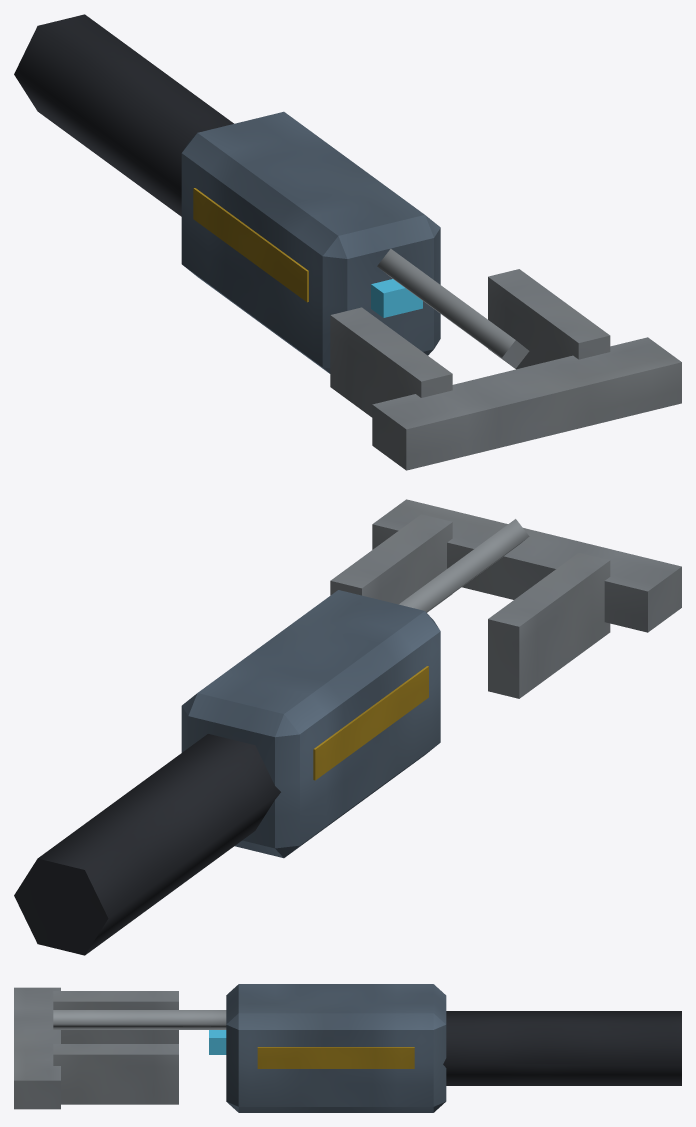
The picture shows the model from 3 angles, top to bottom: view 1: azimuth 30°, elevation 25°; view 2: azimuth 150°, elevation 25°; view 3: azimuth 270°, elevation 25°; orthographic projection. The views are drawn at different scales.
Parts seen in each view (by area): view 1: dweller_tool_multitool; view 2: dweller_tool_multitool; view 3: dweller_tool_multitool.
Part boxes in pixels (x1,y1,x2,y2): dweller_tool_multitool: (14,14,681,470); dweller_tool_multitool: (14,499,681,955); dweller_tool_multitool: (14,984,681,1112).
Bounding box in the file's own units: 0.14 × 0.07 × 0.425.
Materials: 5 (5 with a texture image).
